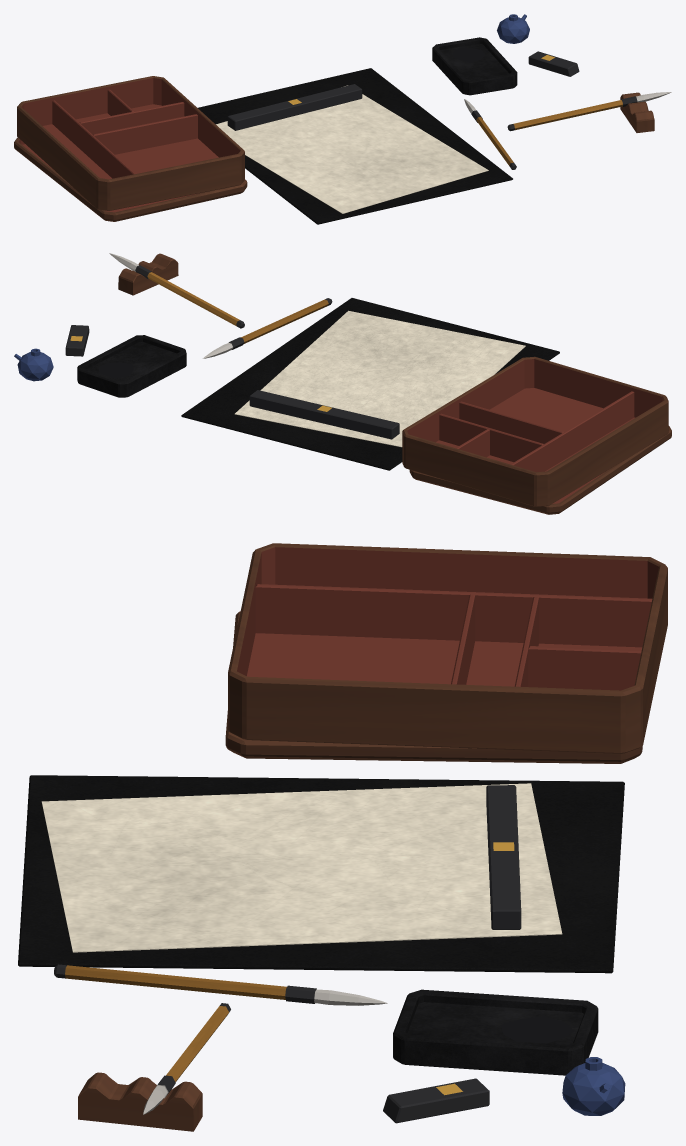
File: 13B_Caligrafia.fbx
3 renders of one model, top to bottom at view 1: azimuth 30°, elevation 25°; view 2: azimuth 150°, elevation 25°; view 3: azimuth 270°, elevation 25°, orthographic. The views are drawn at different scales.
Visible parts, largest first — view 1: SM_13B_Suzuribako_Caja, SM_13B_Papel, SM_13B_Fieltro, SM_13B_Suzuri, SM_13B_Suzuribako_Tapa, SM_13B_Bunchin, SM_13B_Pincel_Reposo, SM_13B_Reposapinceles, SM_13B_Gotero, SM_13B_Barra_Tinta, SM_13B_Pincel_Suelto; view 2: SM_13B_Suzuribako_Caja, SM_13B_Papel, SM_13B_Fieltro, SM_13B_Suzuri, SM_13B_Bunchin, SM_13B_Suzuribako_Tapa, SM_13B_Reposapinceles, SM_13B_Pincel_Reposo, SM_13B_Pincel_Suelto, SM_13B_Gotero, SM_13B_Barra_Tinta; view 3: SM_13B_Suzuribako_Caja, SM_13B_Papel, SM_13B_Fieltro, SM_13B_Suzuri, SM_13B_Suzuribako_Tapa, SM_13B_Reposapinceles, SM_13B_Pincel_Suelto, SM_13B_Bunchin, SM_13B_Barra_Tinta, SM_13B_Gotero, SM_13B_Pincel_Reposo.
Boxes of the visible parts, left/top/right/bottom form: SM_13B_Suzuribako_Caja: left=17, top=76, right=244, bottom=210; SM_13B_Papel: left=216, top=85, right=488, bottom=213; SM_13B_Fieltro: left=198, top=68, right=512, bottom=224; SM_13B_Suzuri: left=432, top=37, right=517, bottom=95; SM_13B_Suzuribako_Tapa: left=14, top=137, right=247, bottom=221; SM_13B_Bunchin: left=227, top=84, right=362, bottom=130; SM_13B_Pincel_Reposo: left=507, top=92, right=671, bottom=131; SM_13B_Reposapinceles: left=620, top=92, right=654, bottom=132; SM_13B_Gotero: left=497, top=14, right=529, bottom=43; SM_13B_Barra_Tinta: left=528, top=51, right=579, bottom=76; SM_13B_Pincel_Suelto: left=464, top=99, right=516, bottom=169; SM_13B_Suzuribako_Caja: left=402, top=356, right=668, bottom=506; SM_13B_Papel: left=234, top=310, right=525, bottom=447; SM_13B_Fieltro: left=181, top=298, right=559, bottom=470; SM_13B_Suzuri: left=77, top=335, right=186, bottom=397; SM_13B_Bunchin: left=249, top=390, right=399, bottom=439; SM_13B_Suzuribako_Tapa: left=409, top=426, right=671, bottom=514; SM_13B_Reposapinceles: left=118, top=253, right=178, bottom=295; SM_13B_Pincel_Reposo: left=109, top=253, right=244, bottom=328; SM_13B_Pincel_Suelto: left=203, top=298, right=332, bottom=358; SM_13B_Gotero: left=14, top=348, right=53, bottom=381; SM_13B_Barra_Tinta: left=65, top=325, right=89, bottom=356; SM_13B_Suzuribako_Caja: left=228, top=543, right=667, bottom=753; SM_13B_Papel: left=41, top=783, right=562, bottom=952; SM_13B_Fieltro: left=18, top=775, right=624, bottom=973; SM_13B_Suzuri: left=393, top=989, right=598, bottom=1075; SM_13B_Suzuribako_Tapa: left=225, top=611, right=642, bottom=763; SM_13B_Reposapinceles: left=78, top=1072, right=202, bottom=1131; SM_13B_Pincel_Suelto: left=54, top=964, right=387, bottom=1005; SM_13B_Bunchin: left=486, top=785, right=521, bottom=929; SM_13B_Barra_Tinta: left=383, top=1078, right=489, bottom=1123; SM_13B_Gotero: left=562, top=1057, right=625, bottom=1115; SM_13B_Pincel_Reposo: left=143, top=1003, right=230, bottom=1114.
Size of the model in its own units: 0.8417 by 0.06 by 0.4367.
